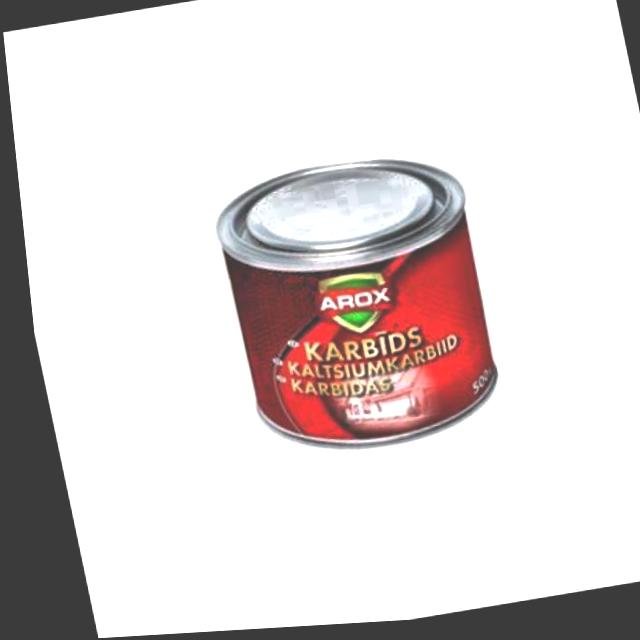Cans: (201, 147, 502, 466)
